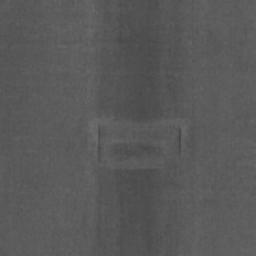Rolled pit: (97, 121, 182, 170)
